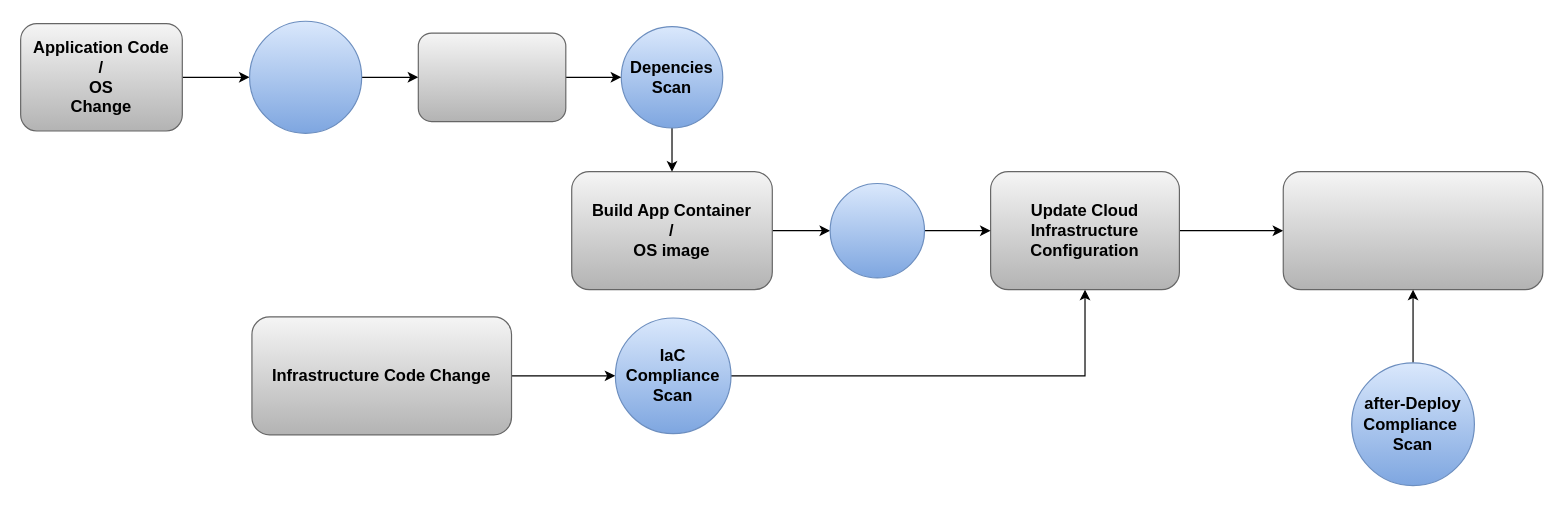
Image size: 1563x506. Some labels were removed from this diagram. The shapes that lost their labels are listed below. From the top down, each one's centre as x and y in pixels, then its label:
(x=305, y=76): Static Code Scan
(x=491, y=77): Application Artifact
(x=877, y=230): Image Scan
(x=1412, y=230): Deploy Cloud Configuration / Application to Environment
